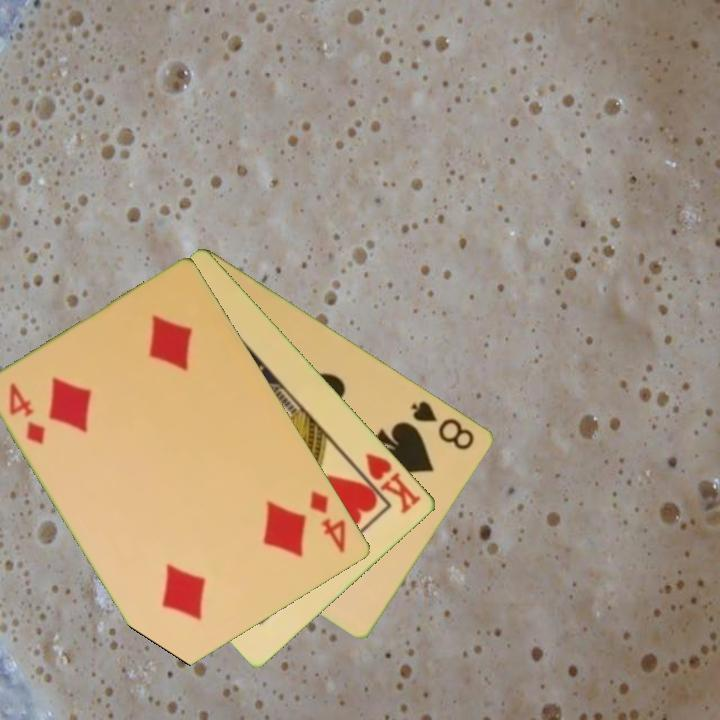4d: (306, 487, 350, 556), (6, 379, 49, 447)
8s: (408, 397, 478, 453)
Kh: (349, 449, 425, 517)
